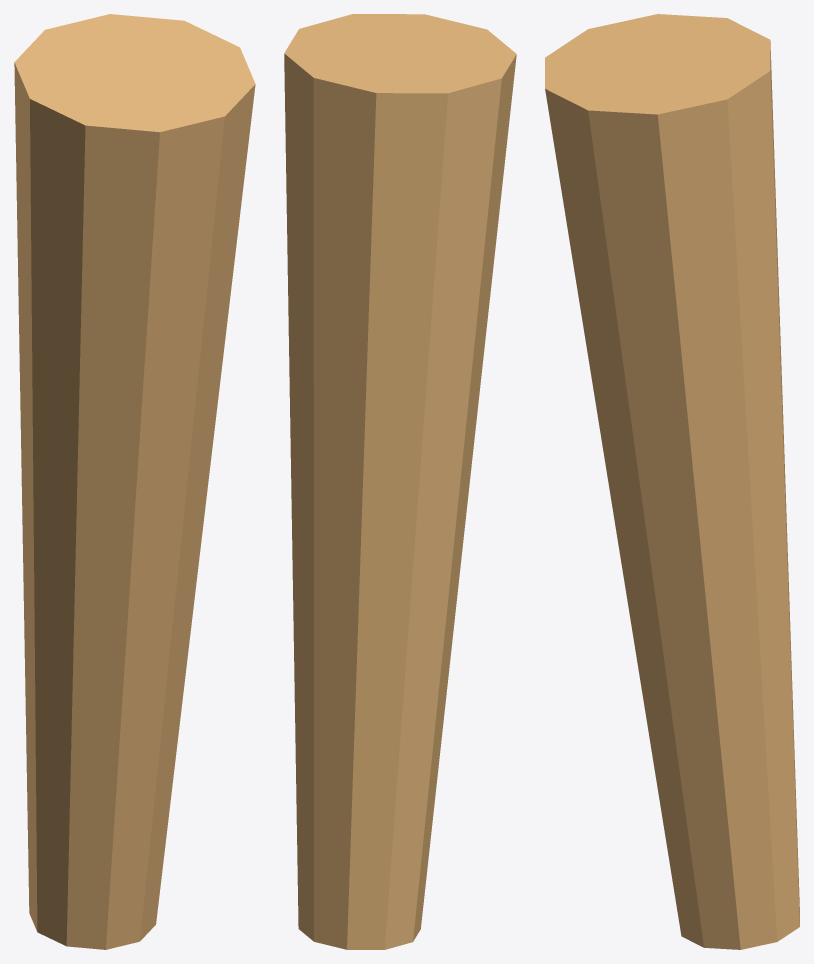
File: player_leg_left_3.obj
The picture shows the model from 3 angles, left to right: view 1: azimuth 30°, elevation 25°; view 2: azimuth 150°, elevation 25°; view 3: azimuth 270°, elevation 25°; orthographic projection. The views are drawn at different scales.
Visible parts, largest first — view 1: player:leg_left_3; view 2: player:leg_left_3; view 3: player:leg_left_3.
Boxes of the visible parts, <box> form: player:leg_left_3: <box>14,14,255,949</box>; player:leg_left_3: <box>284,14,516,949</box>; player:leg_left_3: <box>545,14,799,949</box>.
Size of the model in its own units: 0.2 by 0.8096 by 0.2143.
